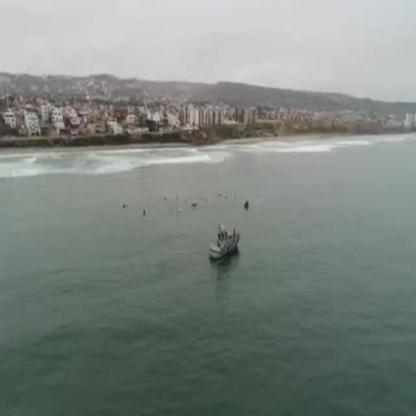Boat: (208, 221, 243, 264)
